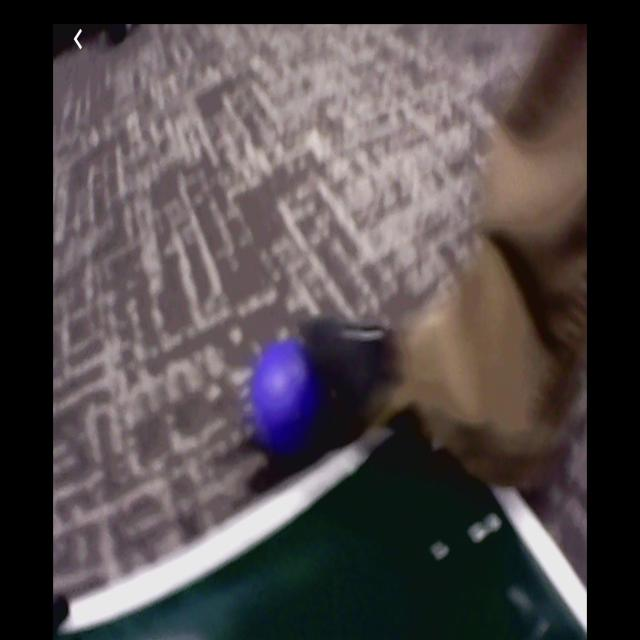ball: (254, 342, 318, 451)
